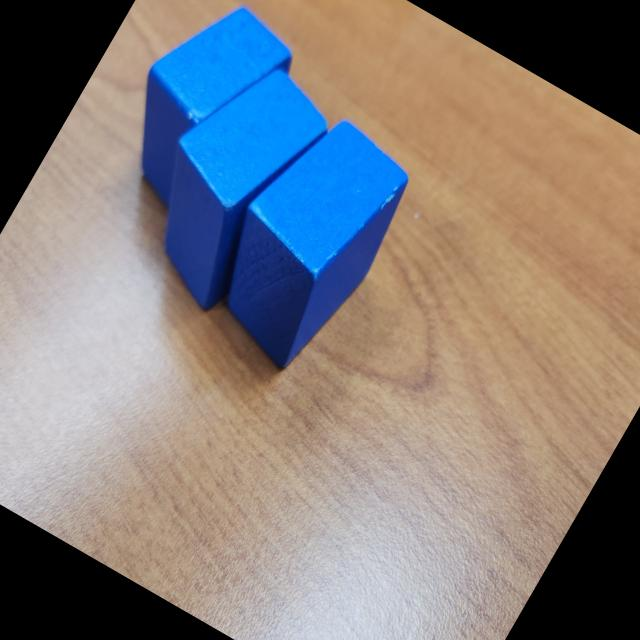blue: (183, 99, 430, 387), (108, 42, 344, 323), (89, 0, 308, 233)
